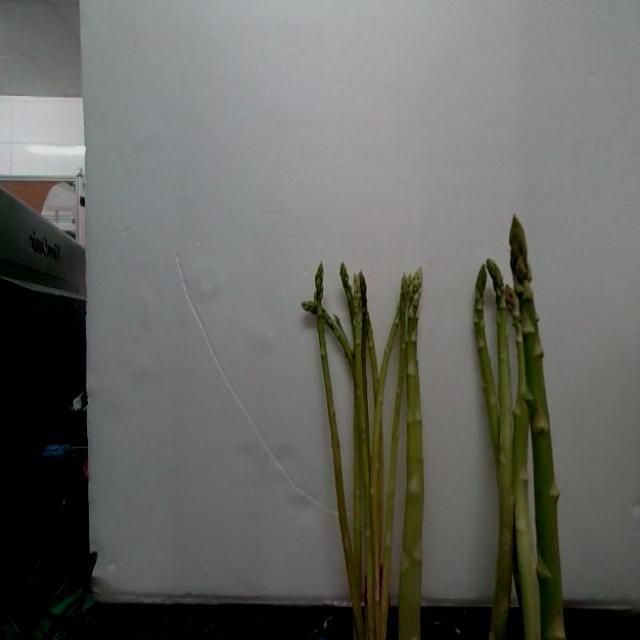aspargus: (509, 217, 566, 640), (396, 269, 425, 640)
